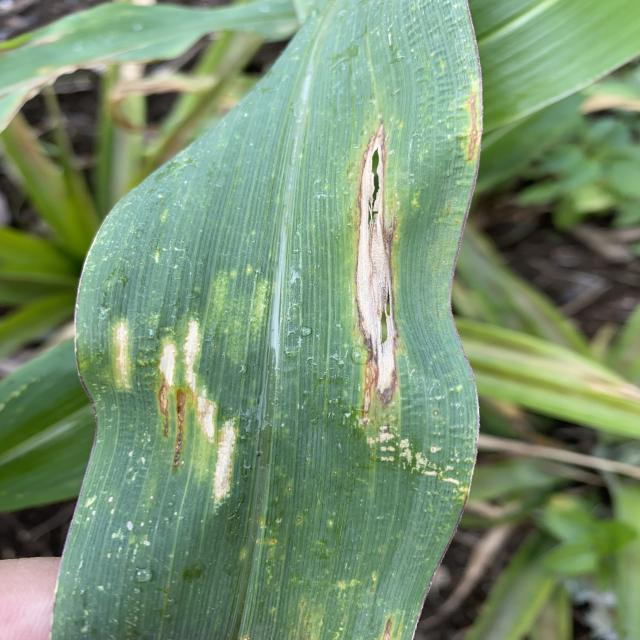Corn_Leaf_Blight: (60, 108, 491, 640)
